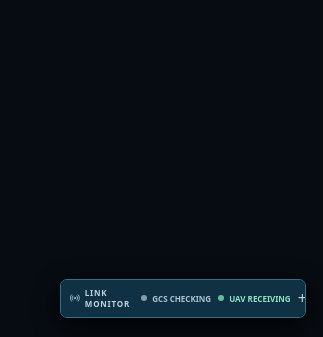
Test case: network watch assessments › shows unavailable raw radio data rather than calculating strength from transport status
Click the button "LINK MONITOR GCS CHECKING UAV RECEIVING +" at (183, 298), box x1=61 y1=280 x2=305 y2=317
(page scrolled)
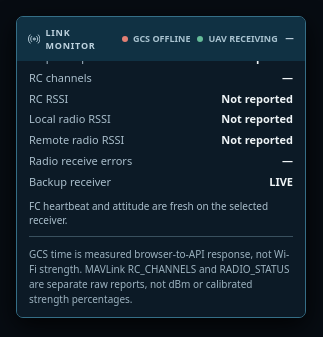
Expected: the text "RC_CHANNELS and RADIO_STATUS are separate raw reports" is shown, x1=29 y1=247 x2=289 y2=306
